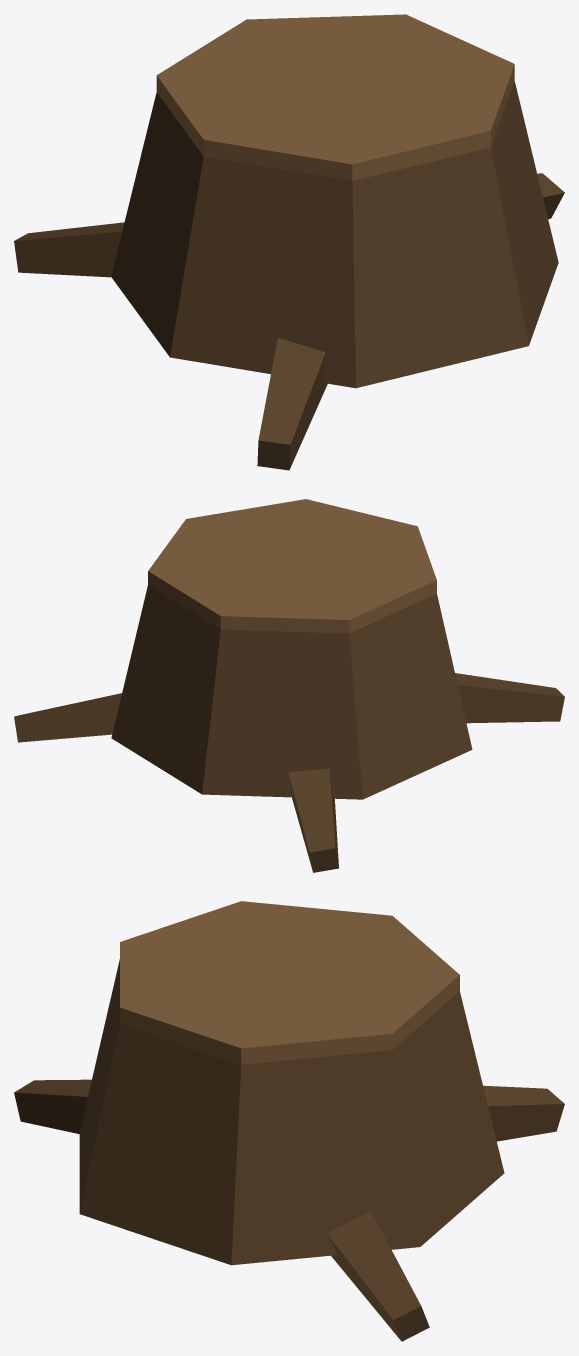
The model's file is log_stump.glb.
3 renders of one model, top to bottom at view 1: azimuth 30°, elevation 25°; view 2: azimuth 150°, elevation 25°; view 3: azimuth 270°, elevation 25°, orthographic. The views are drawn at different scales.
Parts seen in each view (by area): view 1: log_stump; view 2: log_stump; view 3: log_stump.
Part boxes in pixels (<box>): log_stump: <box>14,14,564,470</box>; log_stump: <box>14,499,564,872</box>; log_stump: <box>14,901,564,1341</box>.
Size of what is drawn, in the model's own units: 1.23 by 0.585 by 1.23.
